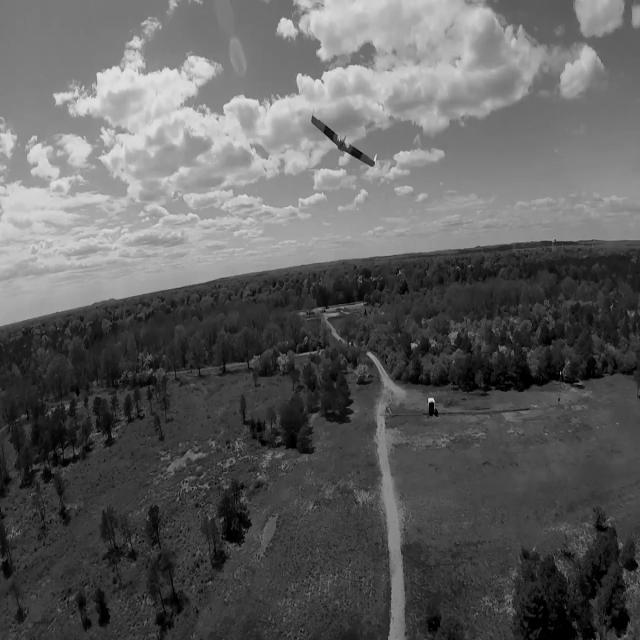iha: (341, 115, 344, 171)
